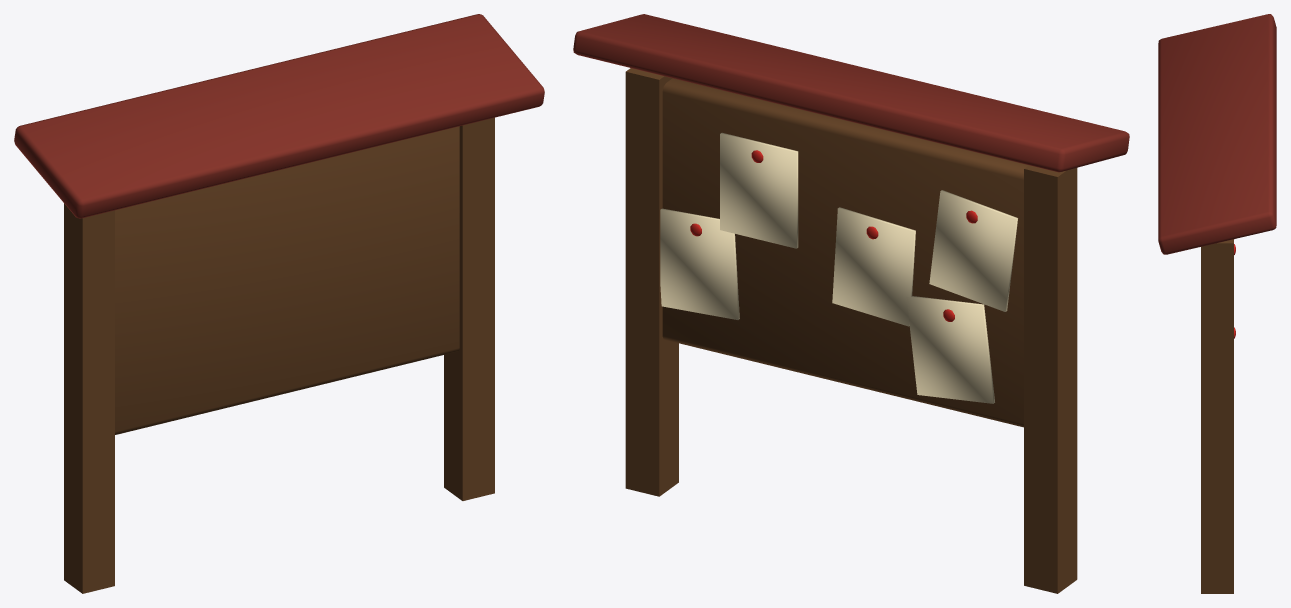
Rendered from board.glb.
3 renders of one model, left to right at view 1: azimuth 30°, elevation 25°; view 2: azimuth 150°, elevation 25°; view 3: azimuth 270°, elevation 25°, orthographic. The views are drawn at different scales.
Visible parts, largest first — view 1: board; view 2: board; view 3: board.
Part boxes in pixels (left/top/right/bottom): board: left=14, top=14, right=544, bottom=593; board: left=573, top=14, right=1129, bottom=593; board: left=1158, top=14, right=1276, bottom=593.
Size of the model in its own units: 3.2 by 2.91 by 0.7949.
